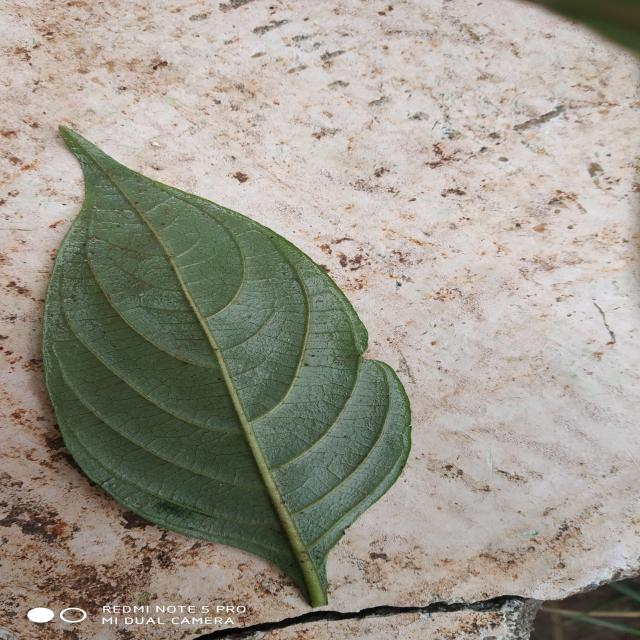ganike: (42, 128, 411, 606)
